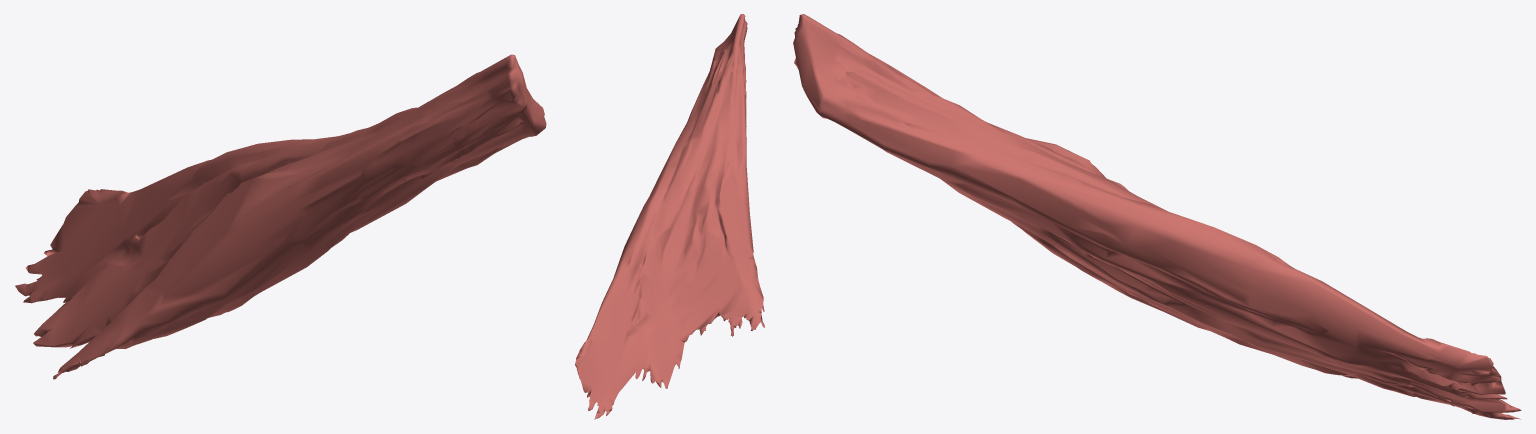
The picture shows the model from 3 angles, left to right: view 1: azimuth 30°, elevation 25°; view 2: azimuth 150°, elevation 25°; view 3: azimuth 270°, elevation 25°; orthographic projection. The views are drawn at different scales.
Parts seen in each view (by area): view 1: 左侧胸小肌; view 2: 左侧胸小肌; view 3: 左侧胸小肌.
Boxes of the visible parts, x1=… form: 左侧胸小肌: x1=15, y1=54, x2=546, y2=379; 左侧胸小肌: x1=575, y1=14, x2=764, y2=419; 左侧胸小肌: x1=793, y1=14, x2=1521, y2=419.
Size of the model in its own units: 0.0867 by 0.1401 by 0.2048.
